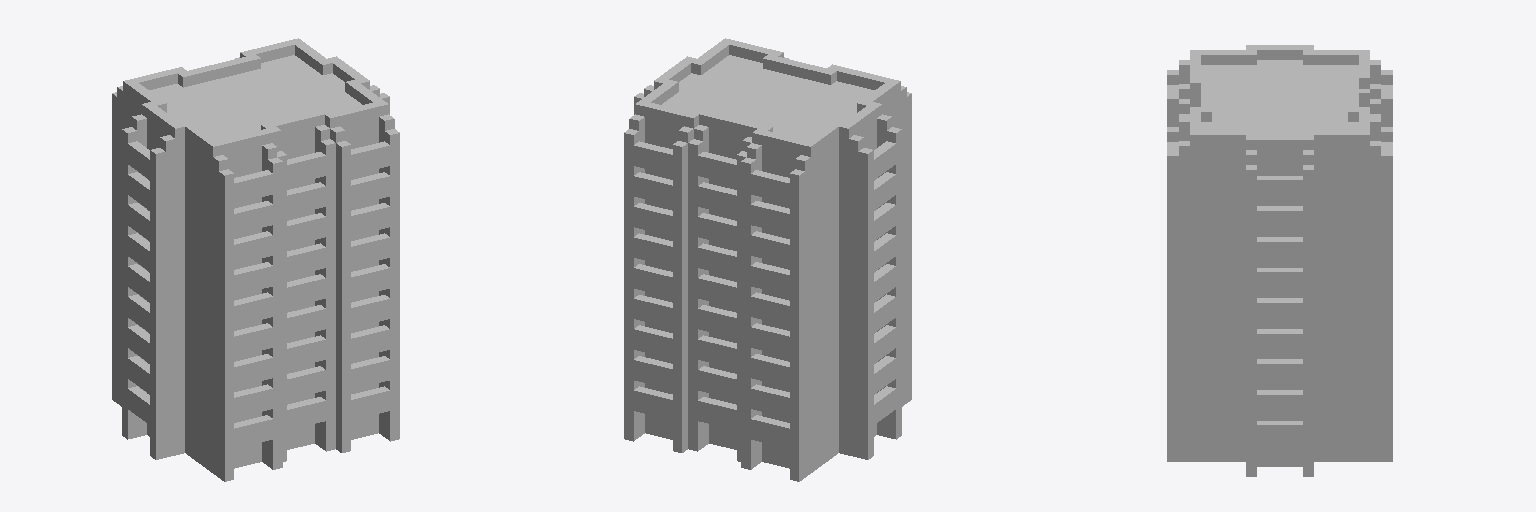
Rendered from skyscraper.obj.
3 renders of one model, left to right at view 1: azimuth 30°, elevation 25°; view 2: azimuth 150°, elevation 25°; view 3: azimuth 270°, elevation 25°, orthographic.
Parts seen in each view (by area): view 1: skyscraper; view 2: skyscraper; view 3: skyscraper.
Boxes of the visible parts, x1,y1,x2,y2 form: skyscraper: [112, 38, 399, 481]; skyscraper: [624, 38, 911, 481]; skyscraper: [1167, 45, 1392, 476].
Size of the model in its own units: 24 by 32 by 20.